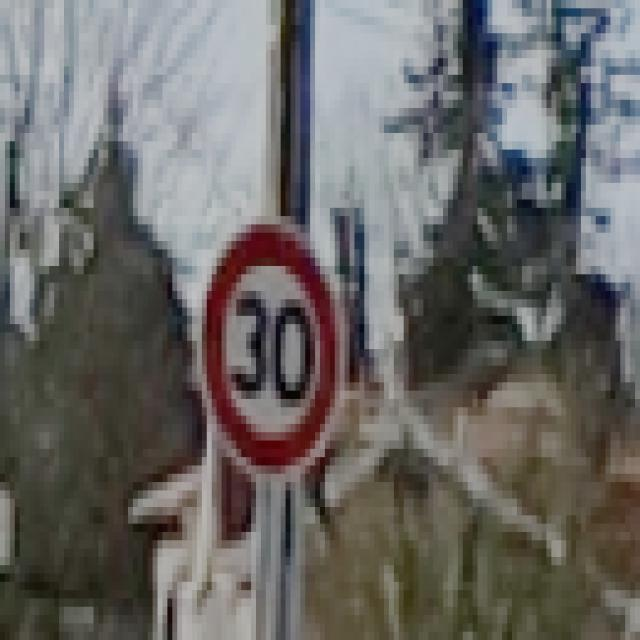speed_30: (198, 219, 348, 482)
